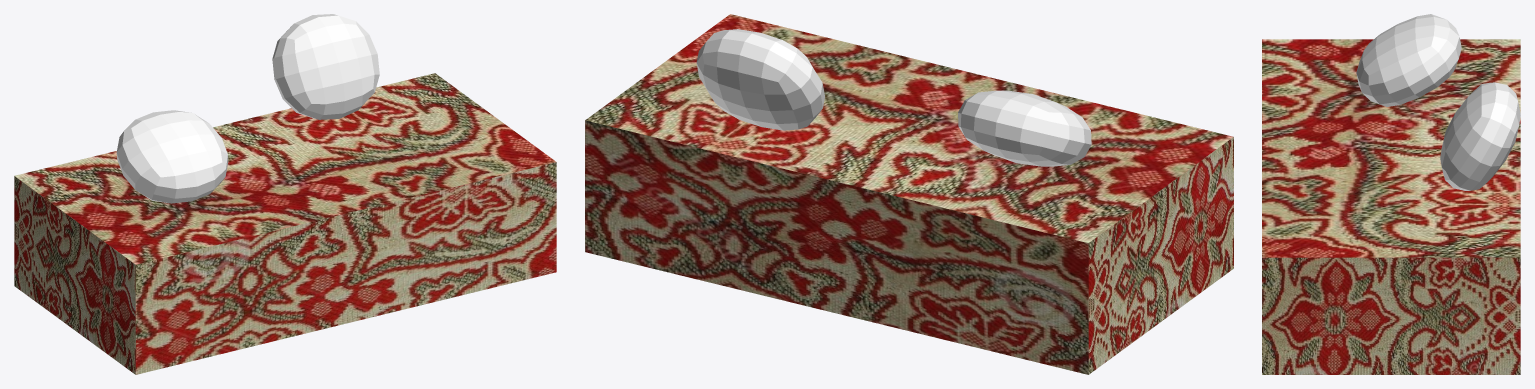
The model's file is canape.glb.
3 renders of one model, left to right at view 1: azimuth 30°, elevation 25°; view 2: azimuth 150°, elevation 25°; view 3: azimuth 270°, elevation 25°, orthographic. The views are drawn at different scales.
Visible parts, largest first — view 1: Cube.001, Cube.004, Cube.002; view 2: Cube.001, Cube.004, Cube.002; view 3: Cube.001, Cube.002, Cube.004.
Boxes of the visible parts, x1,y1,x2,y2 form: Cube.001: (14,73,556,374); Cube.004: (272,14,379,119); Cube.002: (116,110,228,203); Cube.001: (585,14,1233,374); Cube.004: (696,29,824,130); Cube.002: (958,90,1091,166); Cube.001: (1262,39,1520,374); Cube.002: (1356,14,1461,106); Cube.004: (1440,82,1520,190).
Size of the model in its own units: 2 by 0.9338 by 1.
Materials: 3 (1 with a texture image).
